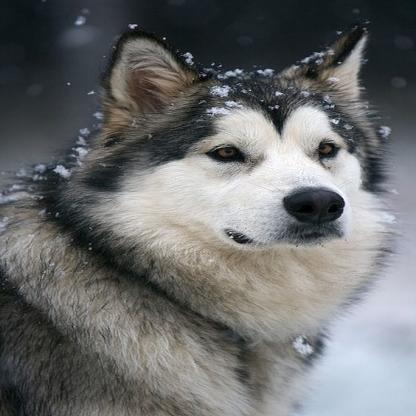husky: (0, 23, 389, 416)
